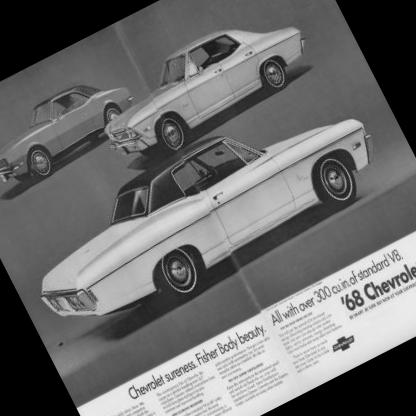car: (1, 54, 416, 386), (80, 1, 331, 175), (1, 43, 147, 203)
